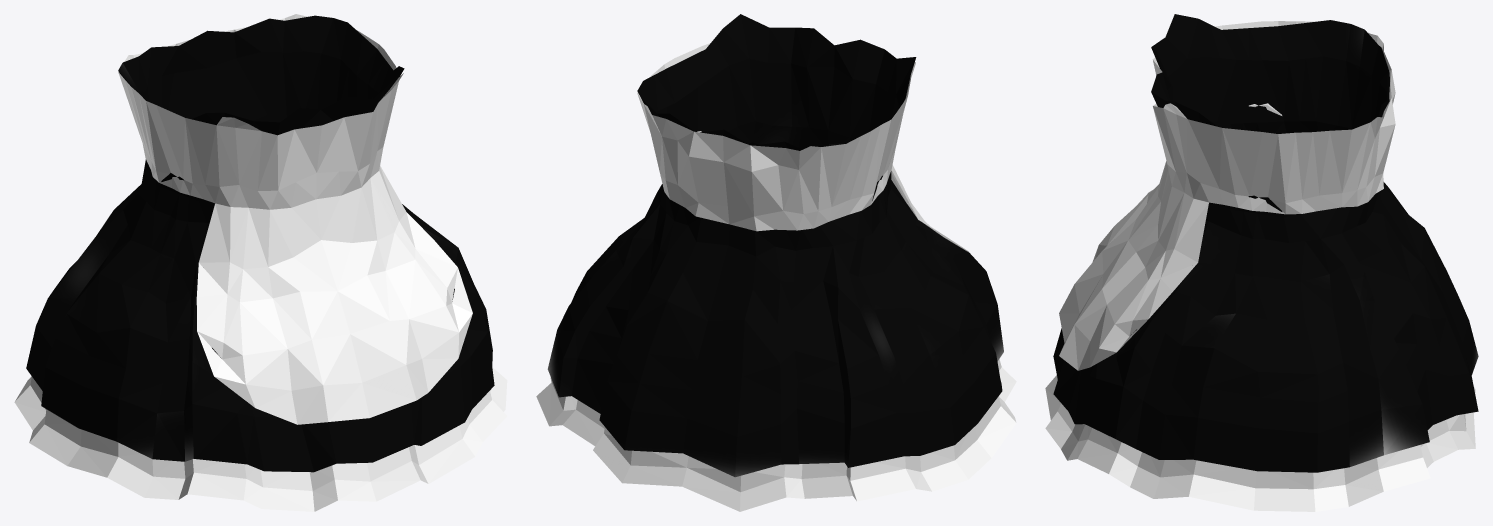
The model's file is tentyoSkirt.obj.
3 views of the same model, side by side, from view 1: azimuth 30°, elevation 25°; view 2: azimuth 150°, elevation 25°; view 3: azimuth 270°, elevation 25° (orthographic). The views are drawn at different scales.
Visible parts, largest first — view 1: ワンピース_立方体.009, エプロン_立方体.011, フリル_立方体.010; view 2: ワンピース_立方体.009, エプロン_立方体.011, フリル_立方体.010; view 3: ワンピース_立方体.009, エプロン_立方体.011, フリル_立方体.010.
Part boxes in pixels (left/top/right/bottom): ワンピース_立方体.009: left=26, top=15, right=494, bottom=472; エプロン_立方体.011: left=118, top=14, right=472, bottom=424; フリル_立方体.010: left=14, top=367, right=507, bottom=511; ワンピース_立方体.009: left=547, top=14, right=1003, bottom=477; エプロン_立方体.011: left=637, top=43, right=968, bottom=252; フリル_立方体.010: left=536, top=359, right=1016, bottom=511; ワンピース_立方体.009: left=1053, top=14, right=1478, bottom=472; エプロン_立方体.011: left=1059, top=21, right=1395, bottom=370; フリル_立方体.010: left=1045, top=375, right=1475, bottom=511.
Bounding box in the file's own units: 3.35 × 2.73 × 2.95.
